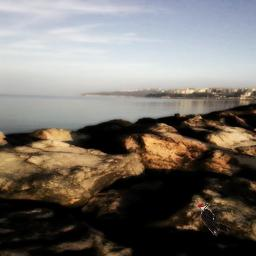Woodpecker: (196, 203, 235, 237)
